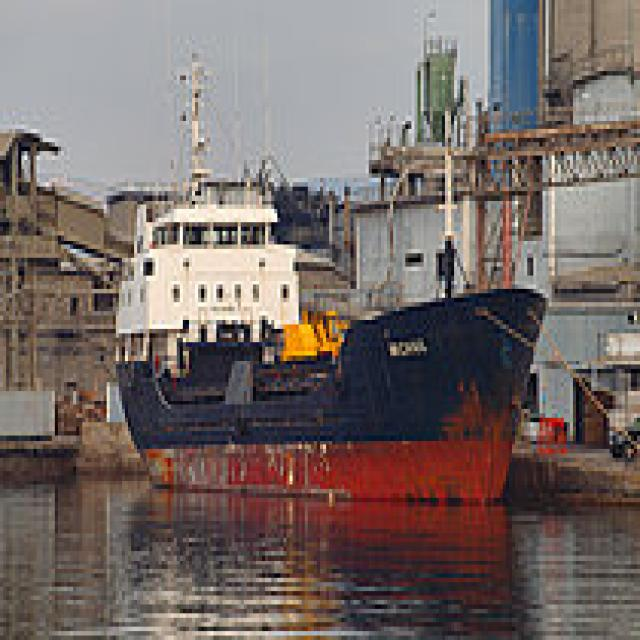Cargo: (110, 45, 548, 502)
